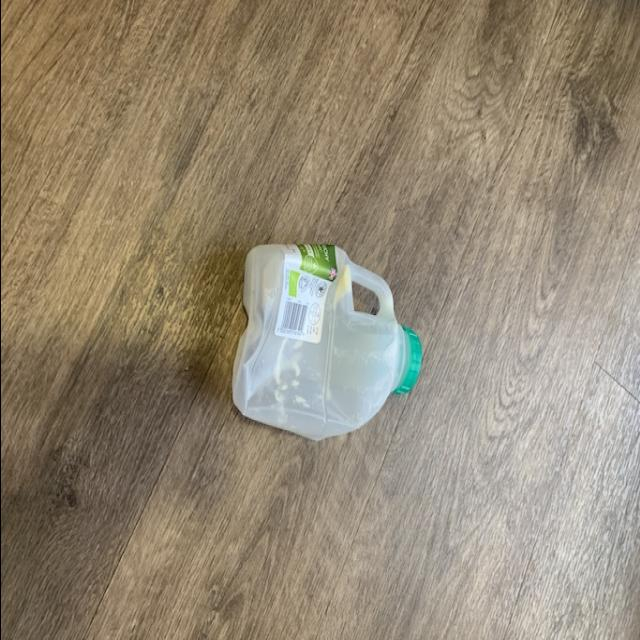HDPEM: (224, 240, 424, 450)
